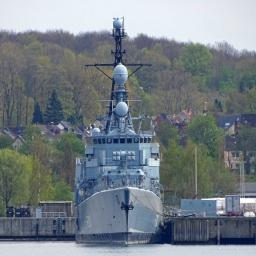Fragata: (75, 10, 166, 250)
